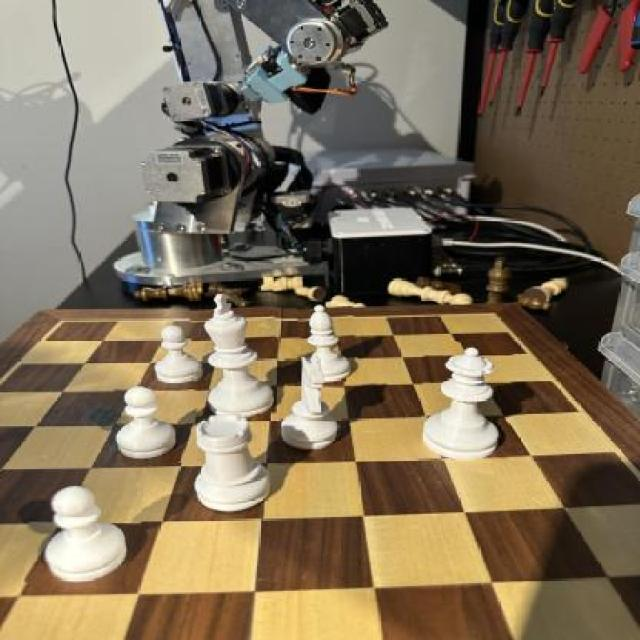black-rook: (298, 301, 359, 384)
white-bishop: (191, 291, 281, 415)
white-king: (278, 358, 344, 458)
white-knight: (26, 485, 142, 586), (111, 388, 188, 462), (150, 322, 206, 386)
white-pawn: (420, 342, 512, 462)
white-queen: (188, 411, 280, 520)
